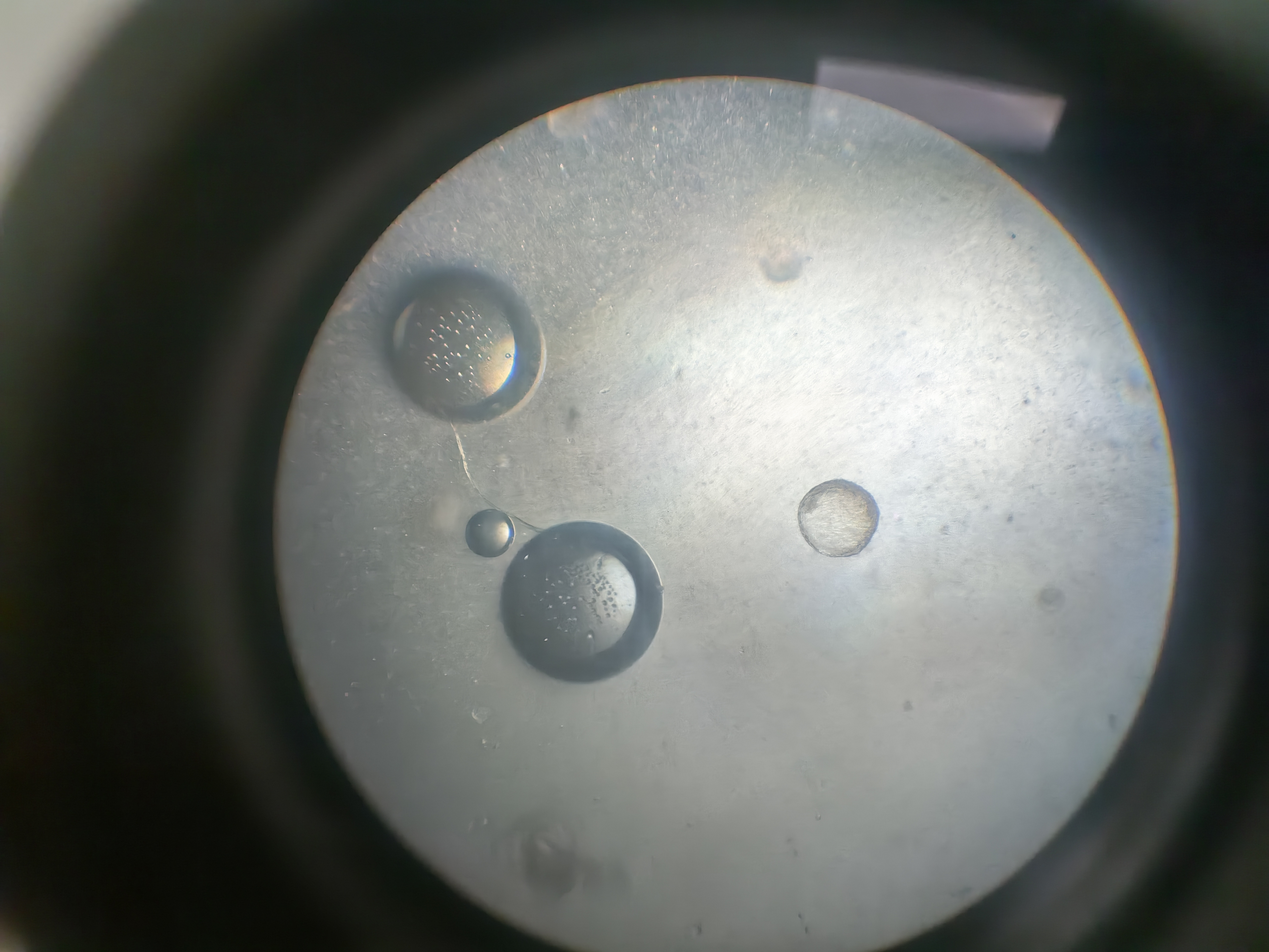organoid: (775, 486, 869, 581)
